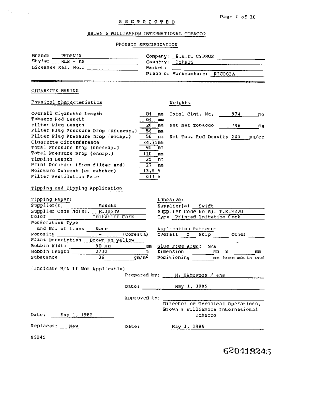textline: (141, 322, 265, 332), (141, 282, 266, 291), (171, 57, 268, 67), (171, 52, 268, 61), (170, 63, 267, 72), (161, 272, 265, 280), (162, 294, 266, 302), (51, 52, 141, 61), (50, 57, 139, 66), (48, 214, 148, 221), (171, 214, 265, 221), (65, 202, 147, 210), (208, 69, 265, 79), (68, 243, 147, 250), (58, 254, 135, 261), (83, 63, 141, 72), (50, 311, 115, 319), (191, 203, 265, 210), (86, 225, 148, 233), (56, 231, 124, 238), (71, 249, 149, 255), (59, 322, 111, 331), (83, 238, 148, 245), (217, 121, 260, 129), (92, 209, 146, 215), (217, 111, 260, 118), (218, 209, 266, 215), (138, 109, 159, 118), (138, 115, 159, 124), (138, 120, 159, 129), (138, 131, 159, 140), (138, 166, 159, 175), (139, 172, 160, 181), (139, 126, 159, 135), (139, 137, 159, 146), (139, 149, 159, 158), (138, 155, 159, 163), (138, 161, 159, 169), (191, 249, 215, 256), (233, 249, 257, 256), (191, 255, 215, 262), (139, 143, 159, 151), (230, 133, 250, 141), (248, 232, 266, 239), (179, 232, 197, 238), (212, 232, 230, 238)
